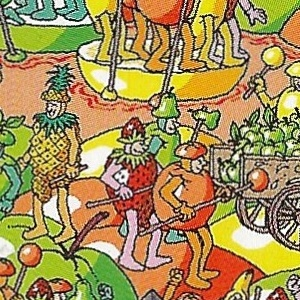Charlie: (126, 94, 174, 206)
